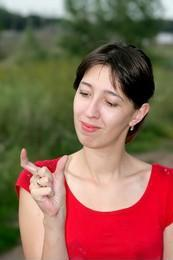face: (71, 79, 133, 151)
